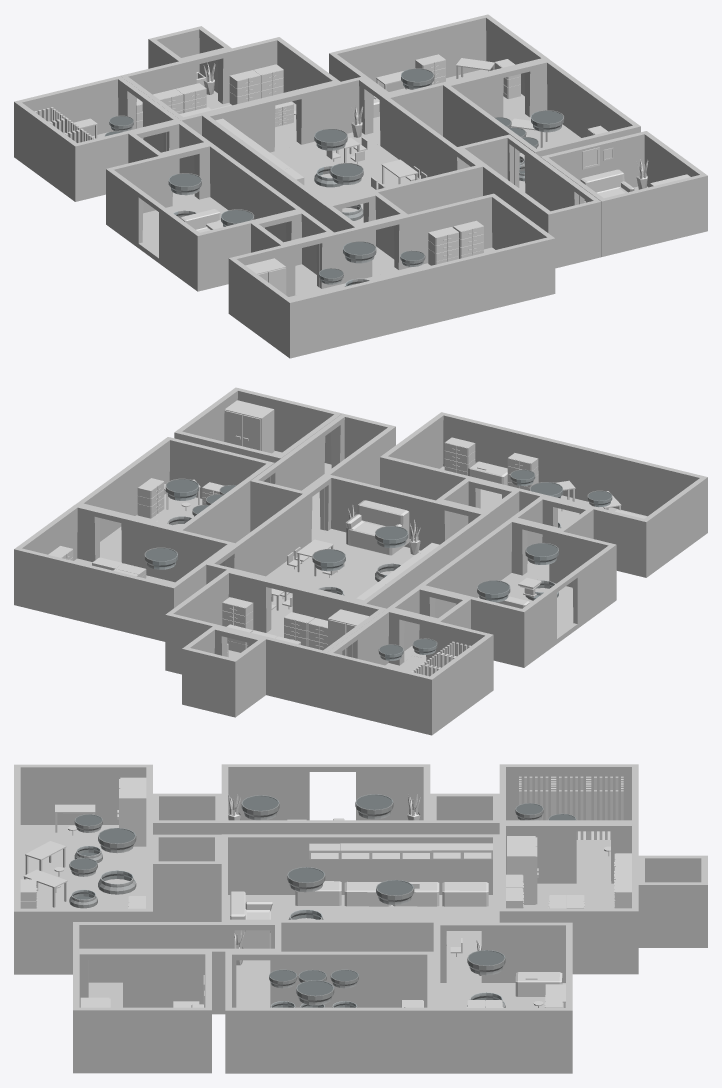
3 renders of one model, top to bottom at view 1: azimuth 30°, elevation 25°; view 2: azimuth 150°, elevation 25°; view 3: azimuth 270°, elevation 25°, orthographic. The views are drawn at different scales.
Parts seen in each view (by area): view 1: room.020, room.028, room.018, room.002, room.021, room.029, room.022, room.023, room.013, room.019, room.025, room.030 (+16 smaller); view 2: room.020, room.029, room.028, room.018, room.002, room.013, room.022, room.023, room.030, room.021, room.016, room.019 (+17 smaller); view 3: room.028, room.022, room.020, room.029, room.021, room.013, room.018, room.023, room.002, room.030, room.025, room.016 (+34 smaller).
Part boxes in pixels (x1,y1,x2,y2): room.020: [228, 193, 555, 358]; room.028: [202, 77, 483, 224]; room.018: [106, 143, 303, 291]; room.002: [14, 76, 180, 201]; room.021: [541, 131, 707, 256]; room.029: [329, 14, 548, 141]; room.022: [443, 59, 640, 192]; room.023: [457, 134, 601, 268]; room.013: [120, 37, 340, 148]; room.019: [251, 210, 333, 293]; room.025: [324, 192, 407, 274]; room.030: [148, 26, 231, 105]; room.020: [380, 412, 707, 577]; room.029: [14, 504, 234, 641]; room.028: [206, 474, 489, 634]; room.018: [418, 518, 616, 667]; room.002: [325, 609, 493, 735]; room.013: [165, 569, 386, 709]; room.022: [76, 437, 274, 562]; room.023: [250, 413, 395, 538]; room.030: [182, 626, 265, 717]; room.021: [174, 387, 342, 473]; room.016: [387, 586, 470, 667]; room.019: [510, 496, 593, 579]; room.028: [221, 834, 499, 980]; room.022: [225, 951, 433, 1073]; room.020: [14, 764, 152, 974]; room.029: [433, 922, 572, 1073]; room.021: [73, 951, 211, 1073]; room.013: [499, 823, 638, 974]; room.018: [221, 764, 430, 834]; room.023: [73, 922, 281, 1014]; room.002: [499, 764, 638, 881]; room.030: [638, 855, 707, 947]; room.025: [152, 834, 221, 921]; room.016: [430, 793, 499, 834].
Bounding box in the file's own units: 2516 × 2996 × 303.
